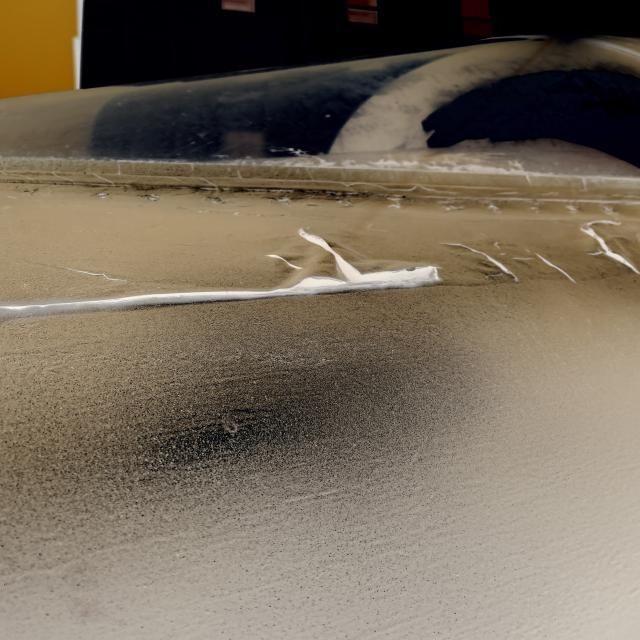crack: (418, 237, 589, 287), (252, 255, 307, 274), (79, 270, 145, 284)
